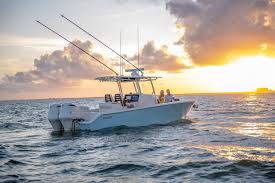boat: (35, 15, 194, 134)
